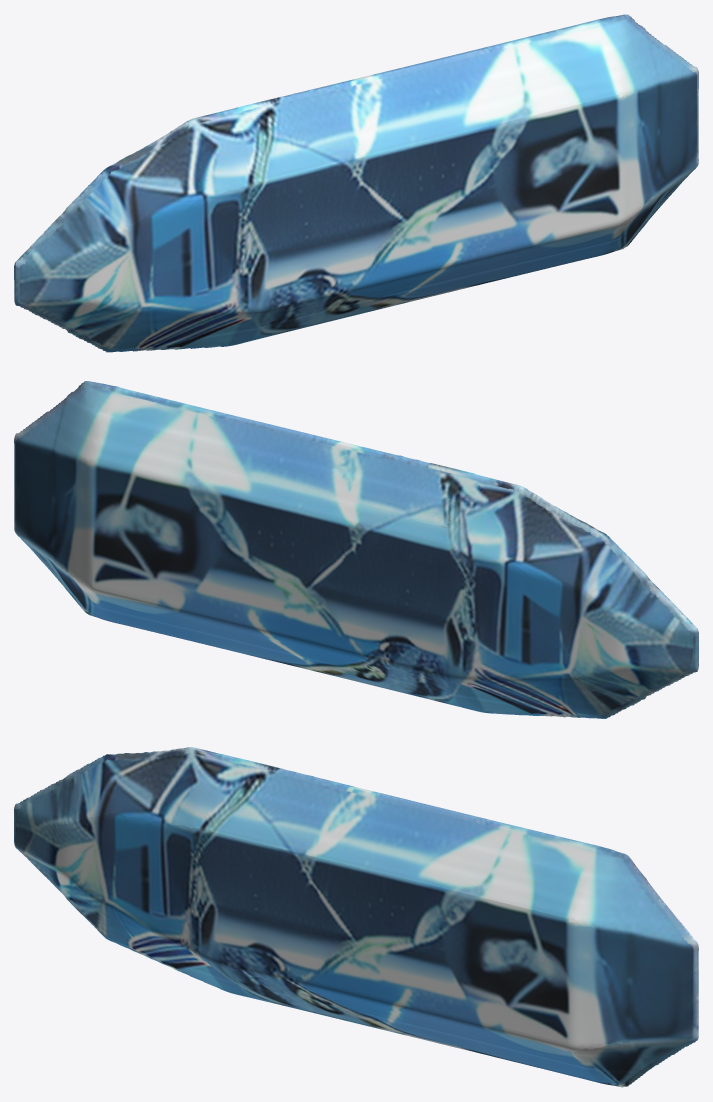
The model's file is uncristalsimplet3.glb.
3 renders of one model, top to bottom at view 1: azimuth 30°, elevation 25°; view 2: azimuth 150°, elevation 25°; view 3: azimuth 330°, elevation 25°, orthographic.
Parts seen in each view (by area): view 1: tmpuve1zu5_.ply; view 2: tmpuve1zu5_.ply; view 3: tmpuve1zu5_.ply.
Part boxes in pixels (x1,y1,x2,y2): tmpuve1zu5_.ply: [14, 14, 698, 352]; tmpuve1zu5_.ply: [14, 381, 698, 718]; tmpuve1zu5_.ply: [14, 747, 698, 1087].
Bounding box in the file's own units: 0.9878 × 0.3266 × 0.1272.
Materials: 1 (1 with a texture image).
